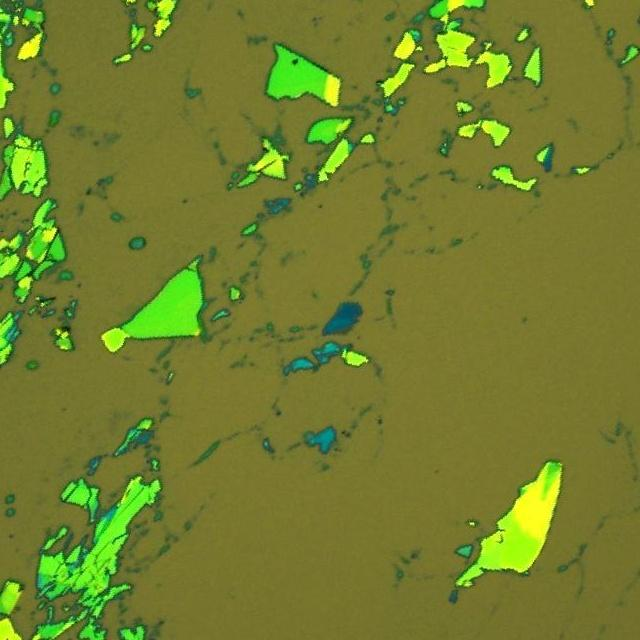monolayer-eWW4: (337, 329, 349, 336)
